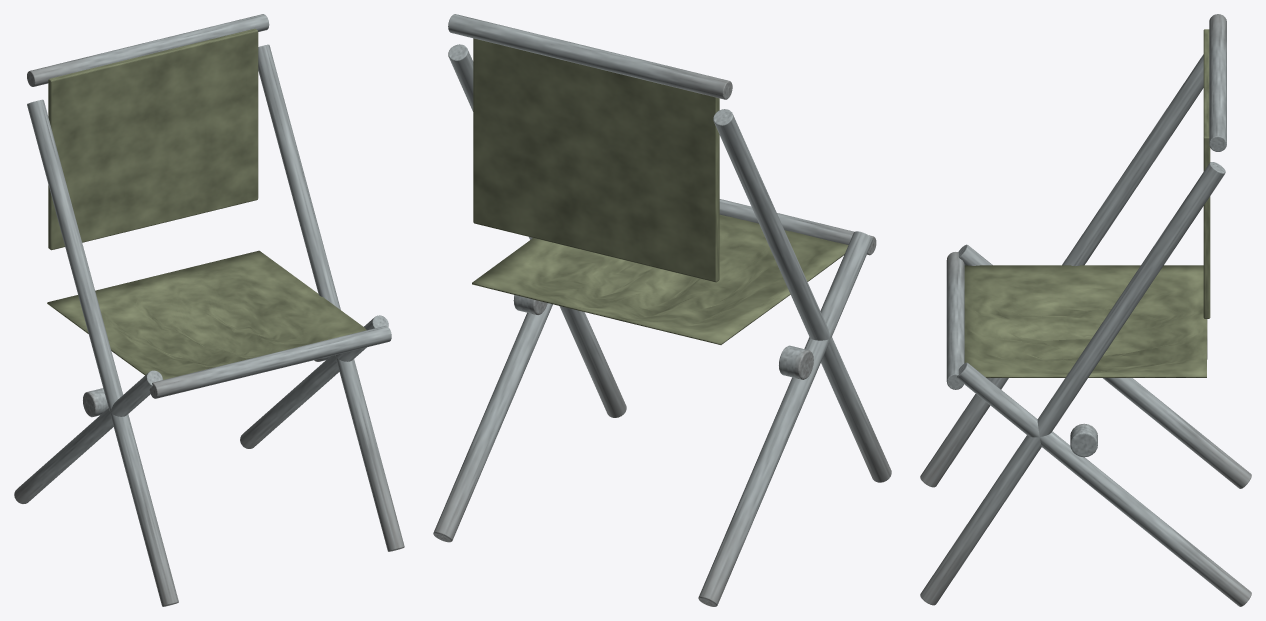
The model's file is GR_FoldingChair_02.glb.
3 renders of one model, left to right at view 1: azimuth 30°, elevation 25°; view 2: azimuth 150°, elevation 25°; view 3: azimuth 270°, elevation 25°, orthographic. The views are drawn at different scales.
Visible parts, largest first — view 1: Static; view 2: Static; view 3: Static.
Boxes of the visible parts, <box> form: Static: <box>14,14,404,606</box>; Static: <box>433,14,891,606</box>; Static: <box>920,14,1251,606</box>.
Size of the model in its own units: 0.54 by 0.9328 by 0.5941.
Materials: 1 (1 with a texture image).
